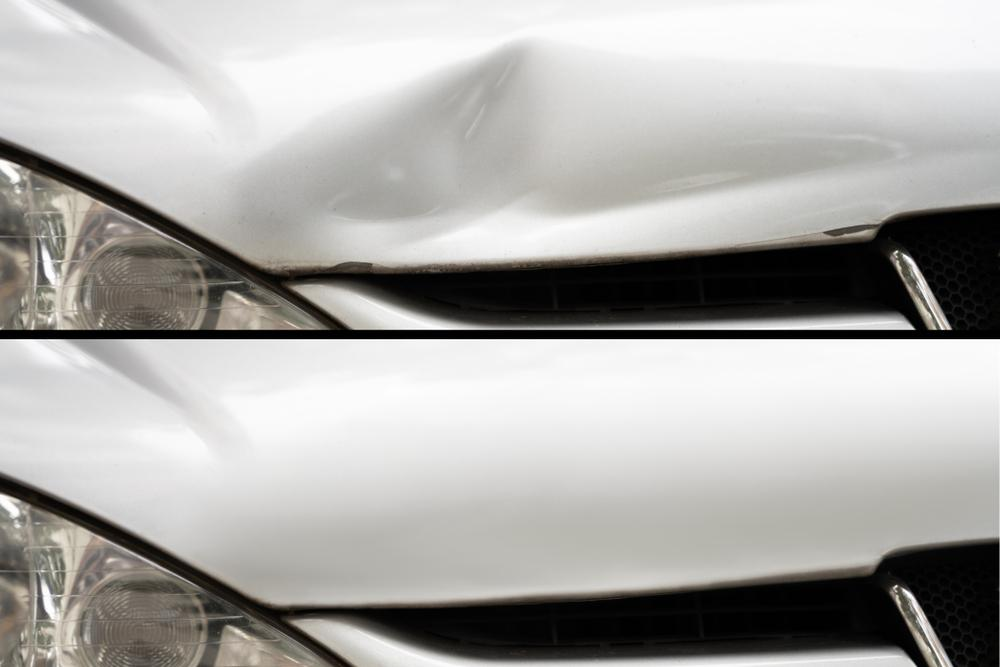dent: (262, 40, 905, 272)
